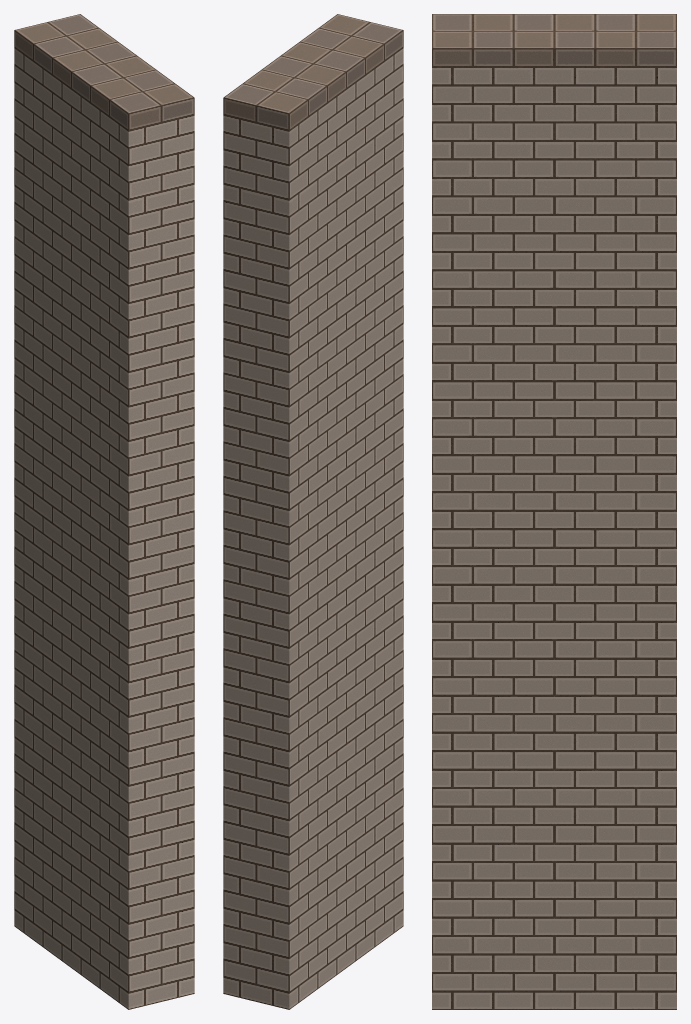
Rendered from Block_Piller_B1.fbx.
3 renders of one model, left to right at view 1: azimuth 30°, elevation 25°; view 2: azimuth 150°, elevation 25°; view 3: azimuth 270°, elevation 25°, orthographic. The views are drawn at different scales.
Visible parts, largest first — view 1: Terrain; view 2: Terrain; view 3: Terrain.
Boxes of the visible parts, left/top/right/bottom form: Terrain: left=14, top=14, right=194, bottom=1009; Terrain: left=223, top=14, right=403, bottom=1009; Terrain: left=432, top=14, right=676, bottom=1009.
Size of the model in its own units: 1 by 13 by 3.
